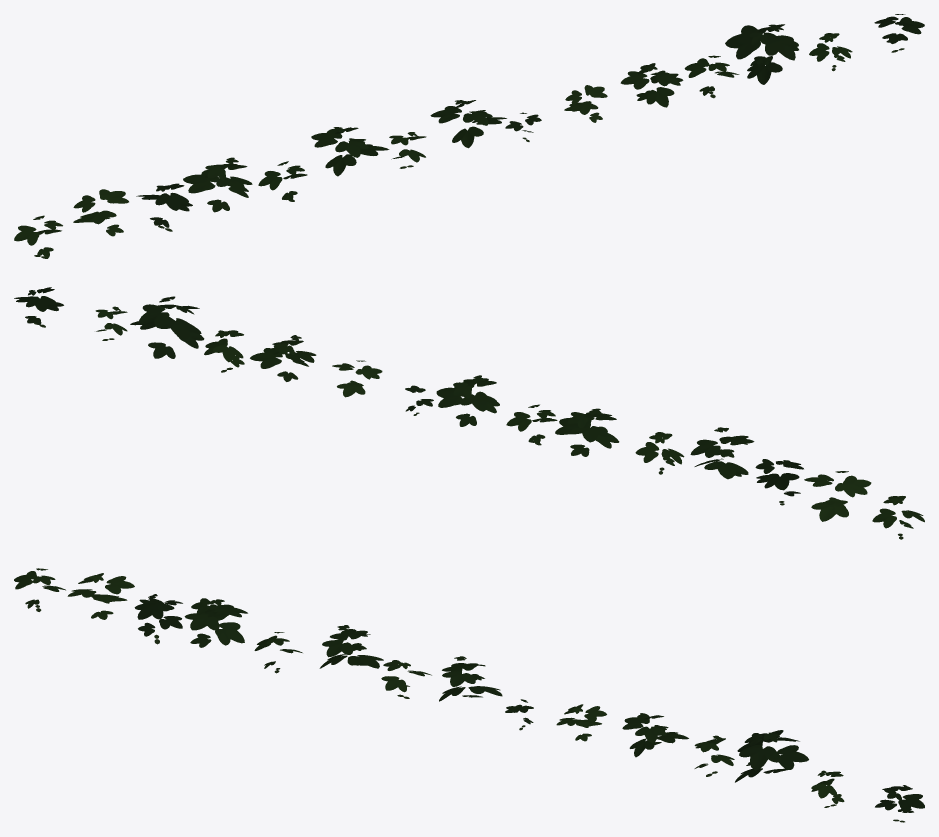
Rendered from ROW_04_SEG0_foliage.dae.
3 views of the same model, one above another, from view 1: azimuth 30°, elevation 25°; view 2: azimuth 150°, elevation 25°; view 3: azimuth 330°, elevation 25° (orthographic).
Visible parts, largest first — view 1: ROW_04_SEG0_foliage; view 2: ROW_04_SEG0_foliage; view 3: ROW_04_SEG0_foliage.
Boxes of the visible parts, <box> form: ROW_04_SEG0_foliage: <box>14,14,924,258</box>; ROW_04_SEG0_foliage: <box>14,287,924,539</box>; ROW_04_SEG0_foliage: <box>14,568,924,822</box>.
Bounding box in the file's own units: 4.54 × 0.371 × 0.2762.
